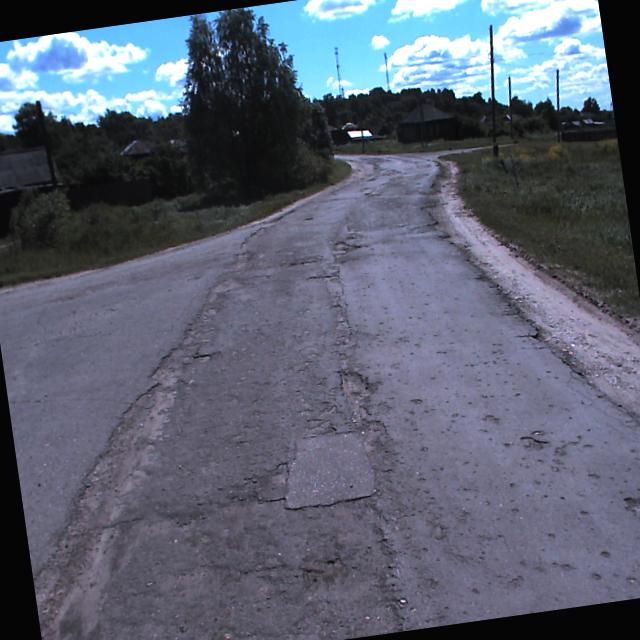road: (0, 143, 640, 640)
